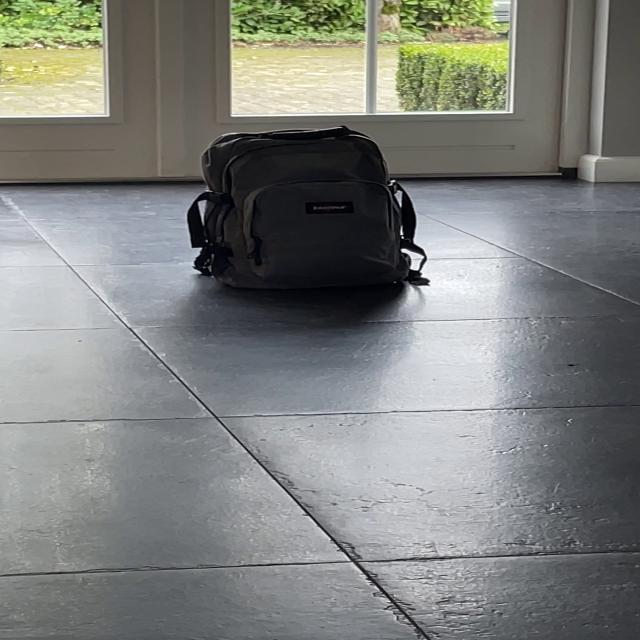backpack: (177, 118, 430, 302)
